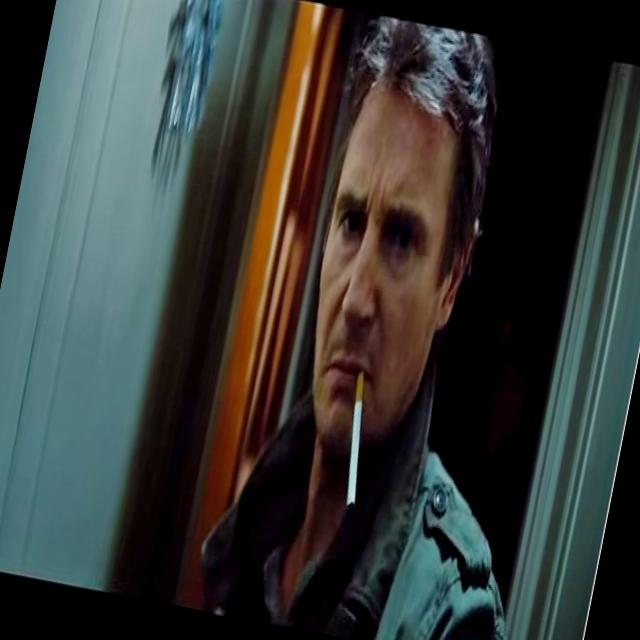smoke: (330, 367, 380, 513)
